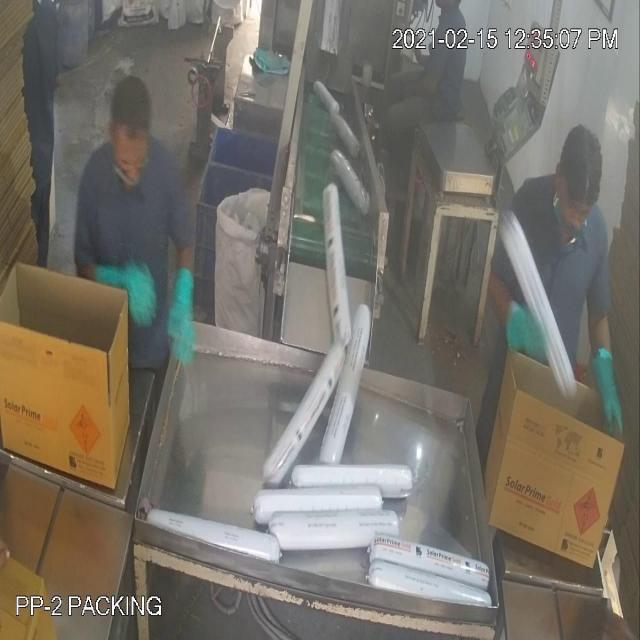Gloves: (32, 128, 606, 390)
